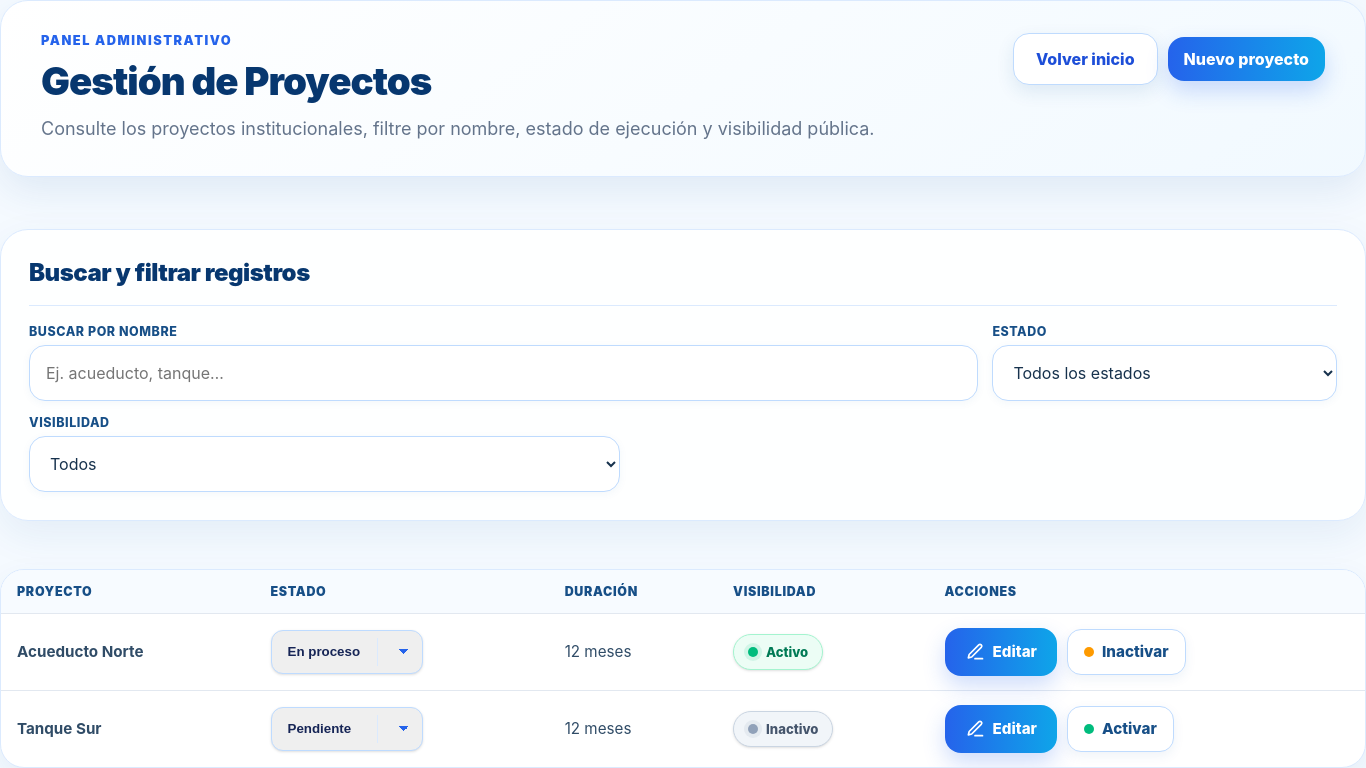
Test: ProyectosAdmin — Estado y Visibilidad › cancela la inactivación sin modificar la visibilidad
This screenshot has width=1366, height=768.
Click the button "Inactivar".
click(1126, 652)  # box [1067,629,1186,675]
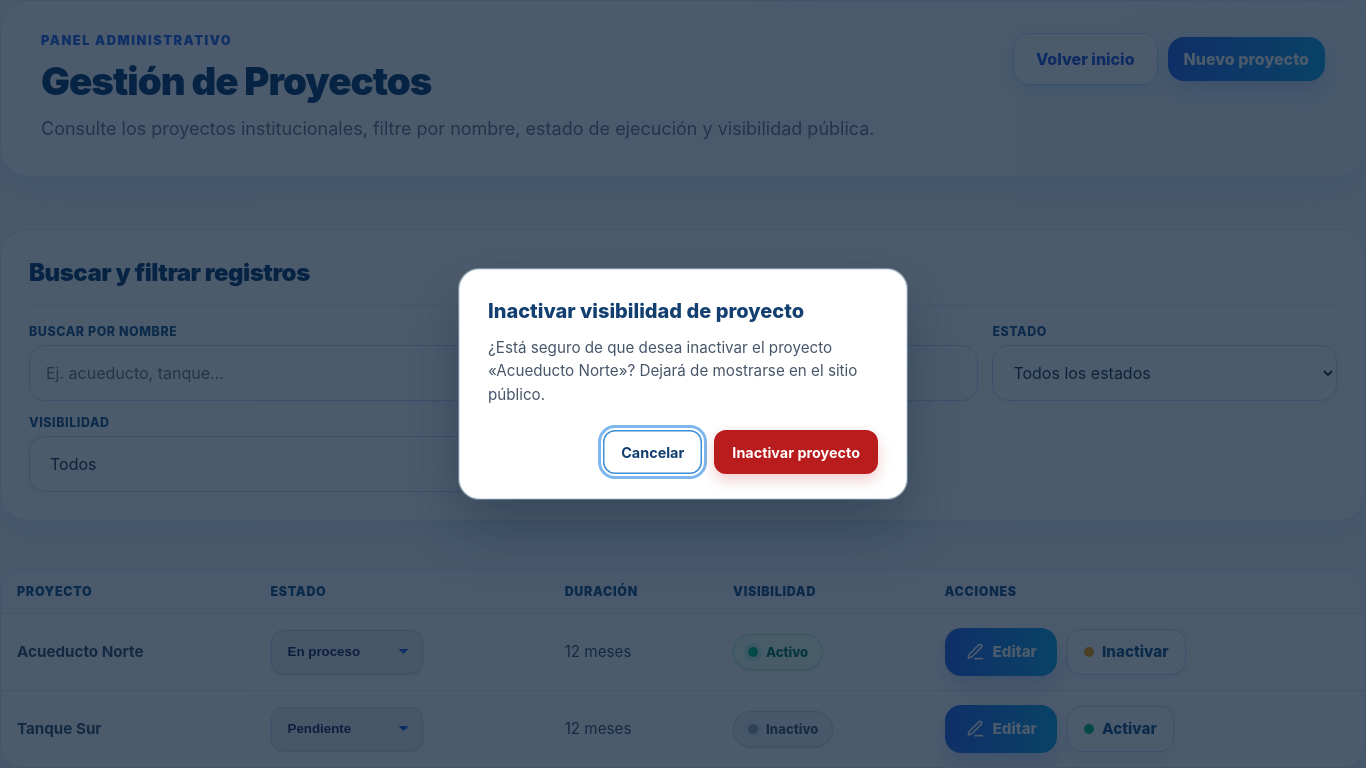
Click the button "Cancelar".
click(653, 452)  # box [603,430,702,474]
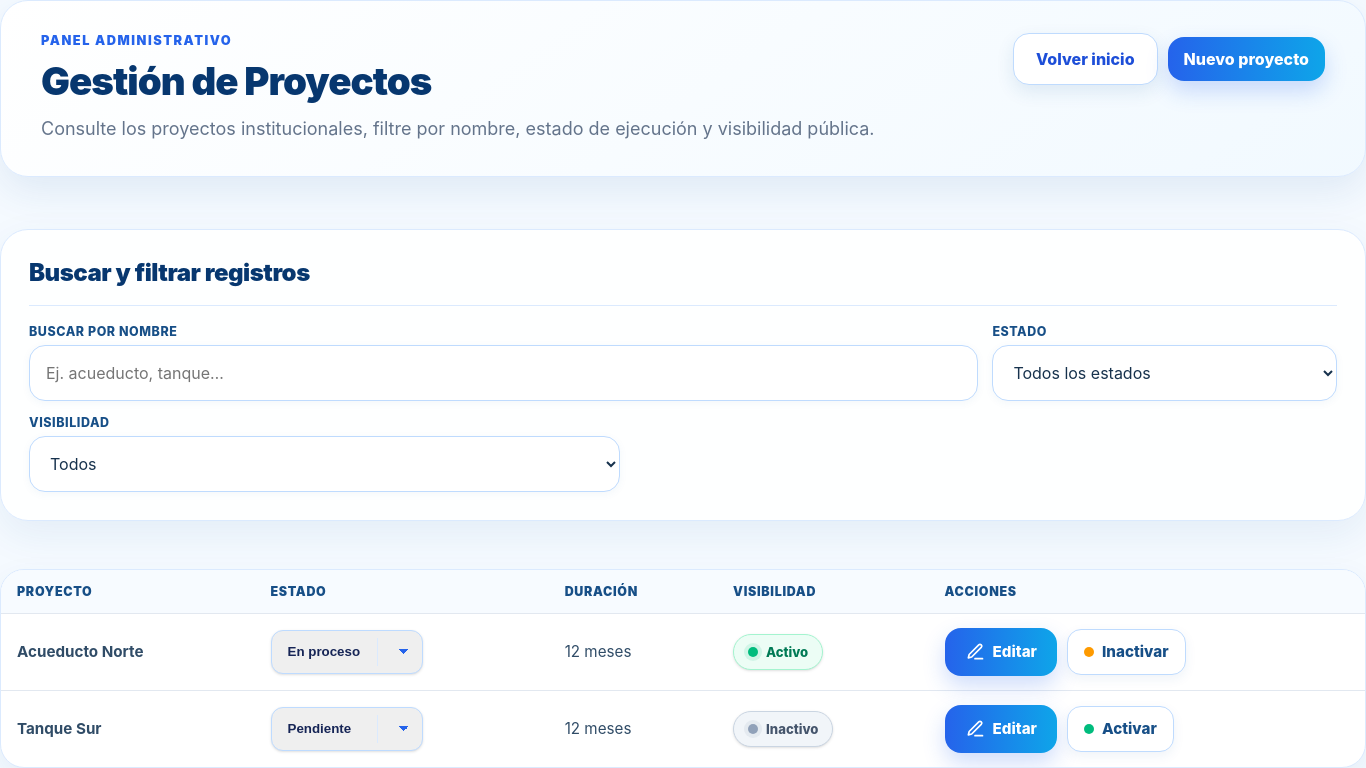
Expected: the dialog is gone
